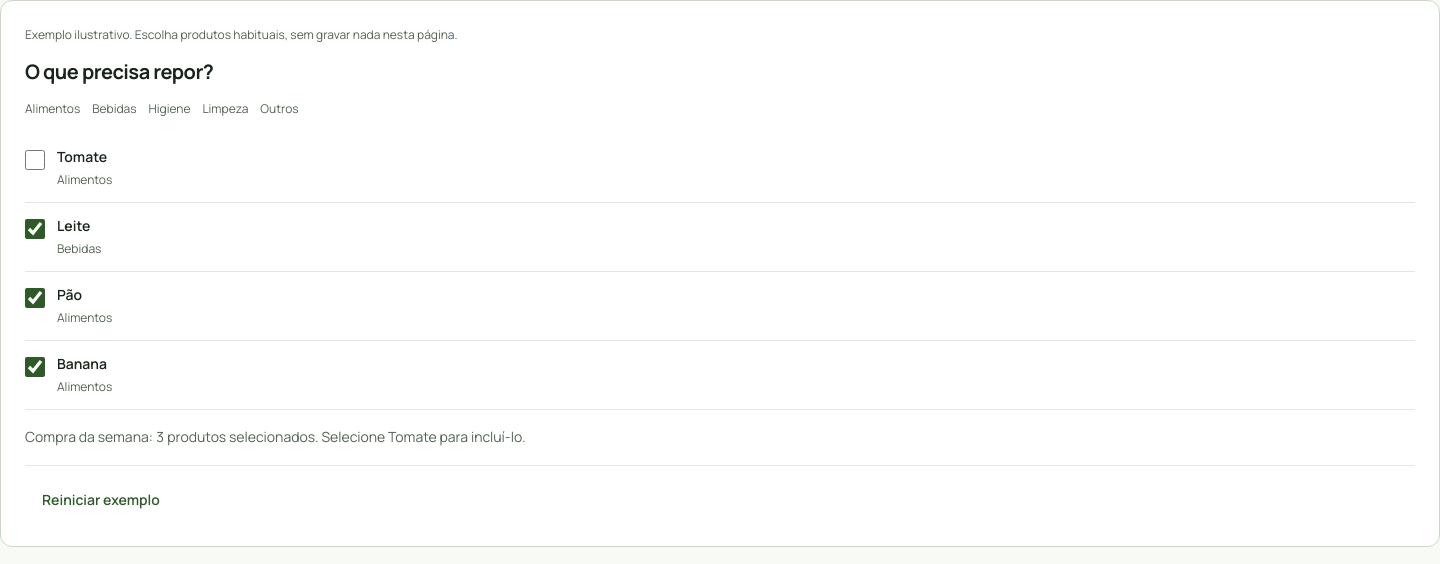
Test: selects habitual products and resets the local example
The width and height of the screenshot is (1440, 564).
Click the checkbox labelled "Tomate Alimentos": (35, 160) [25, 150, 45, 170]
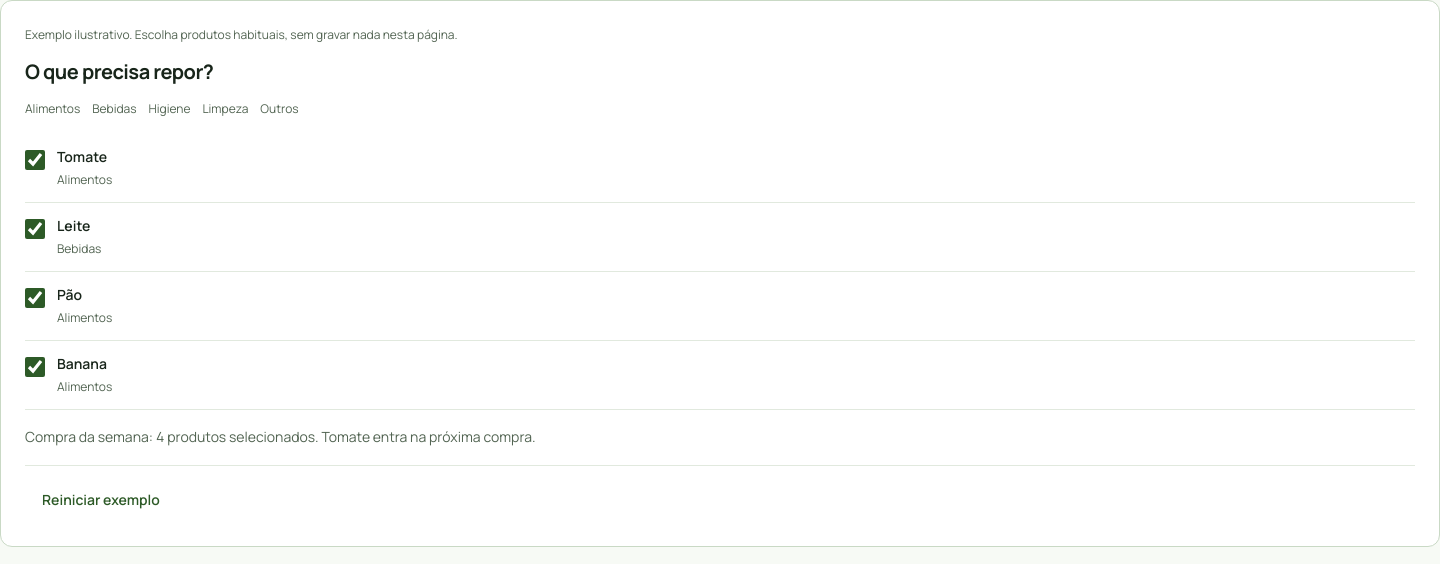
Now the message shows "4 produtos selecionados", box [25, 427, 536, 446]
Click the button "Reiniciar exemplo": (101, 500) [25, 478, 177, 522]
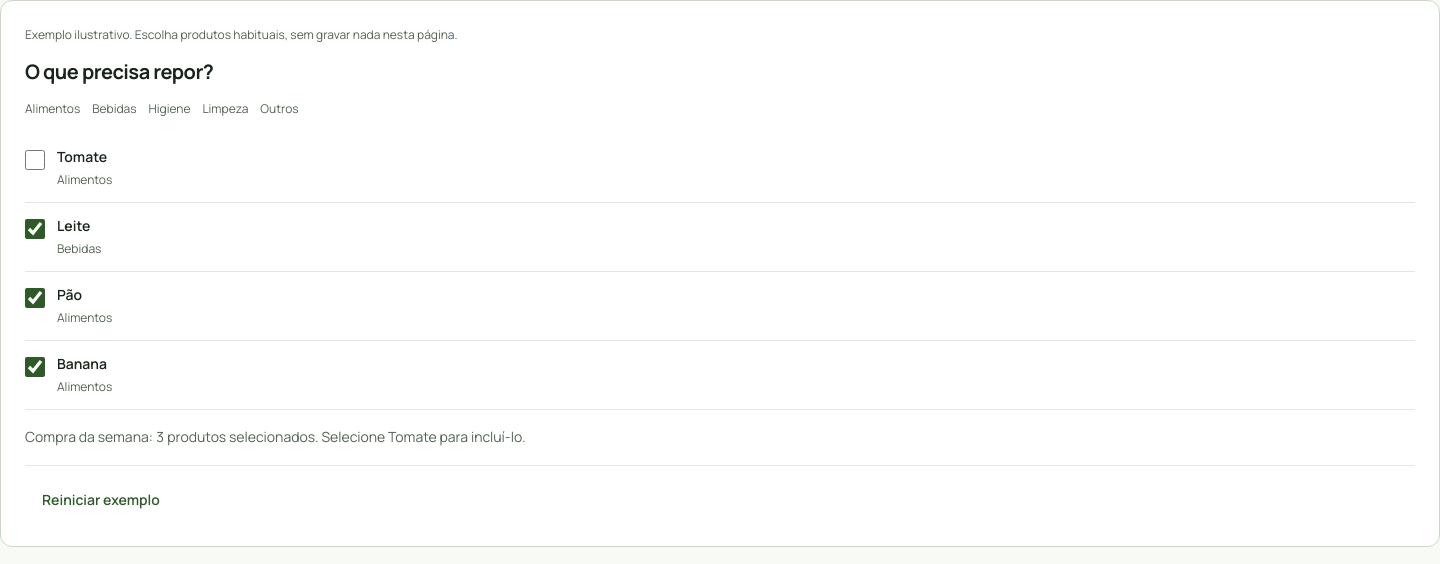
Now the checkbox labelled "Tomate Alimentos" is not checked, box [25, 150, 45, 170]
Now the message shows "3 produtos selecionados", box [25, 427, 526, 446]
